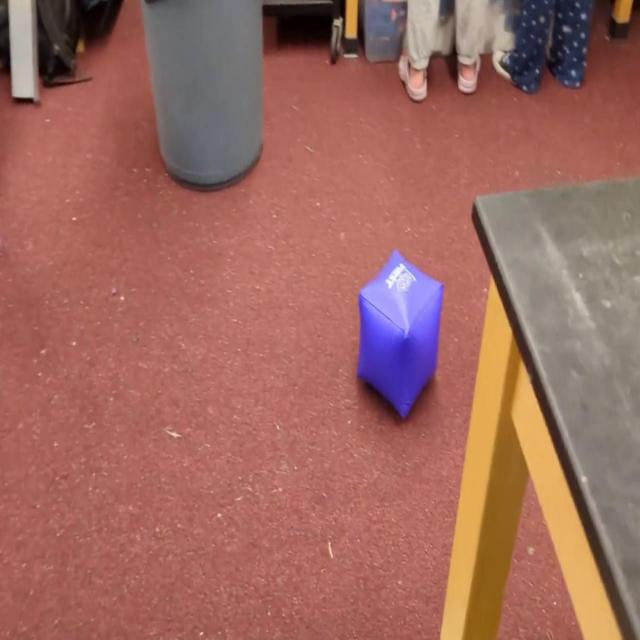frc_cube: (356, 250, 444, 422)
